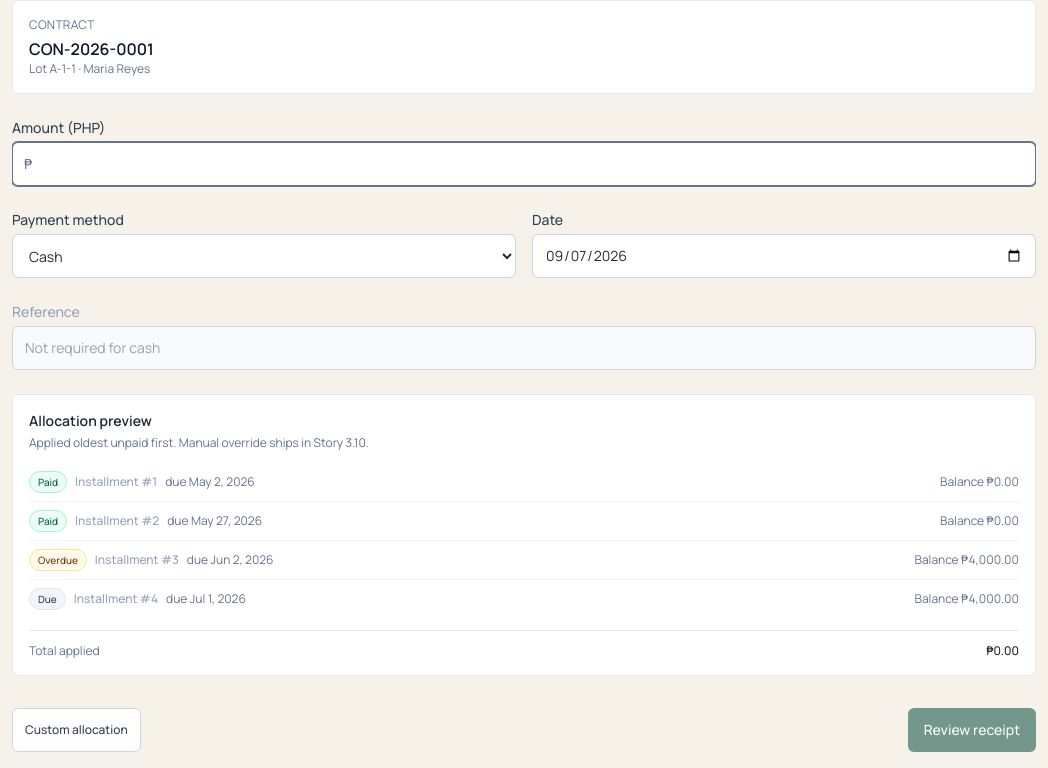
PaymentForm — custom-allocation toggle › disables submit while the sum does not match the payment amount
Type "4000" into the field with test id "payment-amount-input".
click(524, 164); type("4000")  # box x1=12 y1=142 x2=1036 y2=186
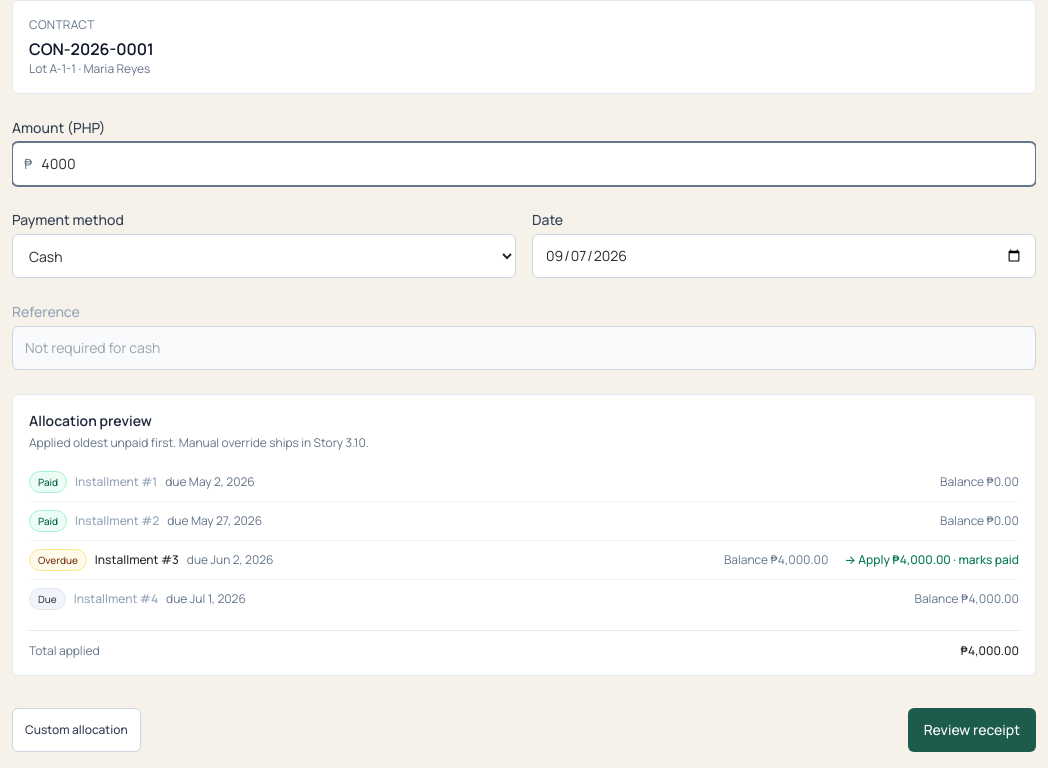
Click the button with test id "payment-form-toggle-custom".
click(76, 730)  # box x1=12 y1=708 x2=141 y2=752
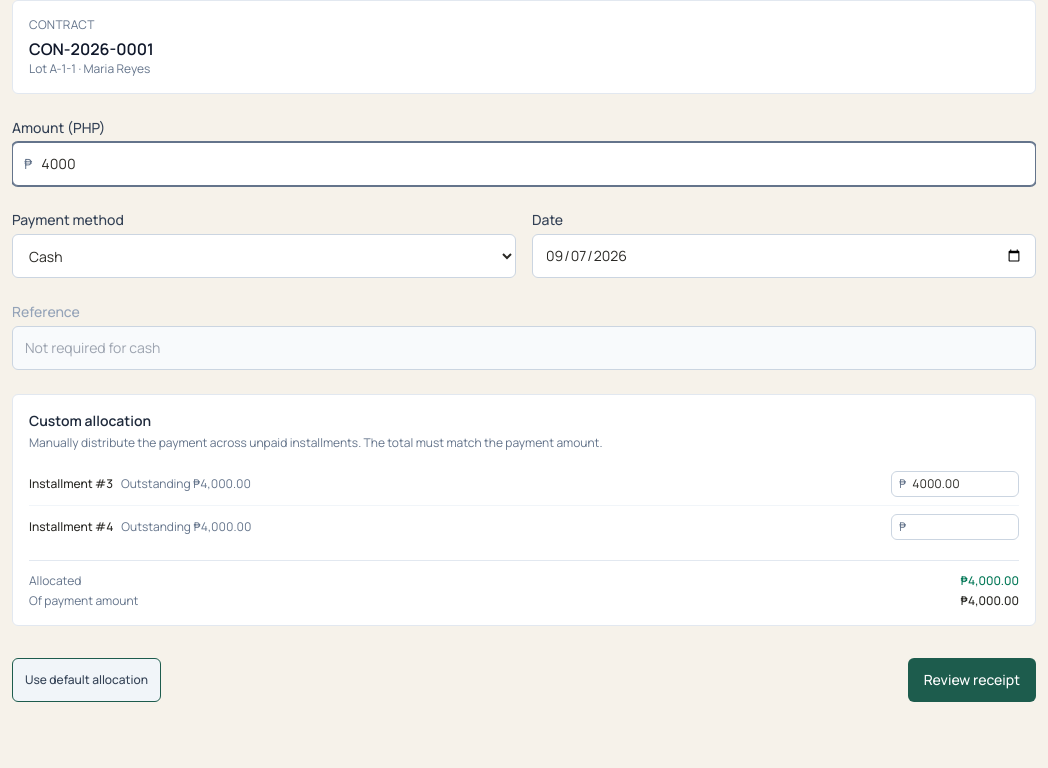
Replace the text in the field with test id "custom-allocation-input-3" with "1000" at (955, 484), box x1=891 y1=471 x2=1019 y2=497
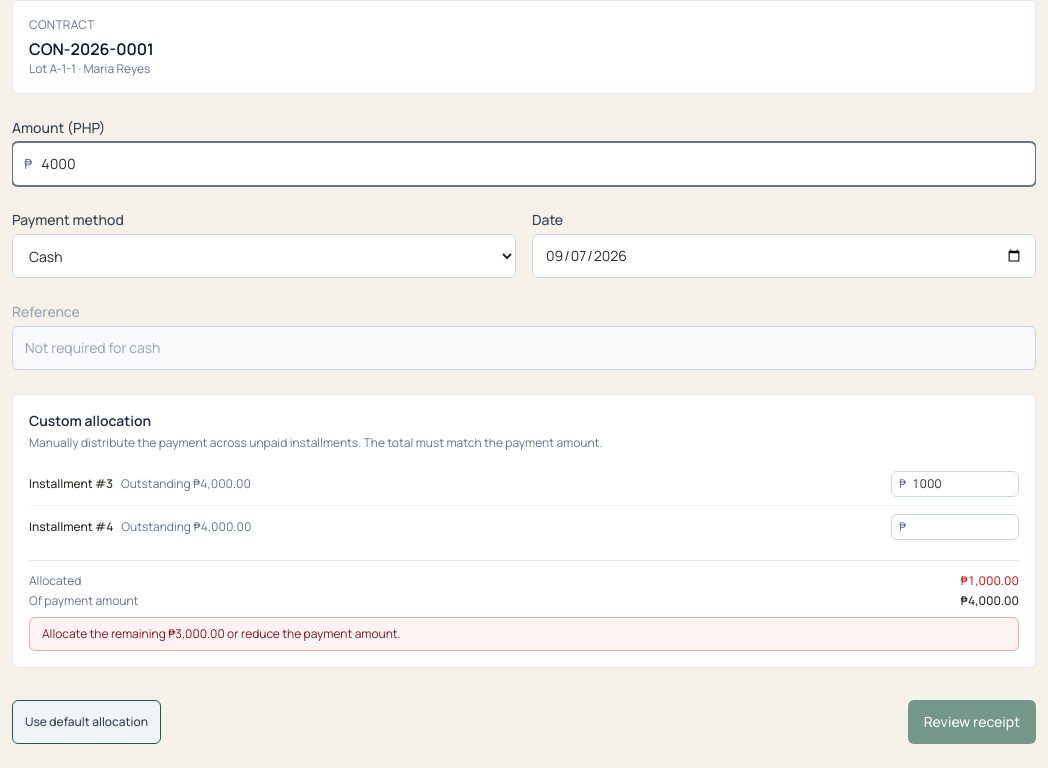
expect the message "Allocate the remaining ₱3,000.00 or reduce the payment amount." is shown: met, box x1=29 y1=617 x2=1019 y2=651
expect the button with test id "payment-form-submit" is disabled: met, box x1=908 y1=700 x2=1036 y2=744
